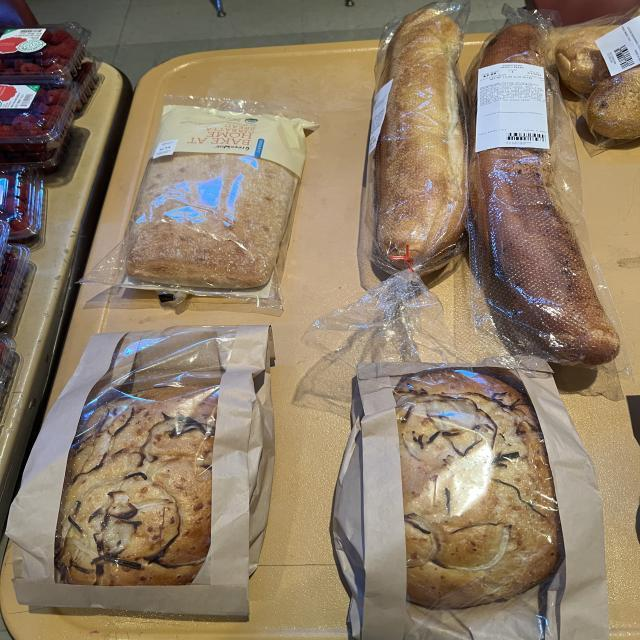Bread: (332, 358, 608, 640), (7, 326, 273, 616), (435, 6, 628, 399), (297, 0, 470, 410), (82, 95, 317, 314), (555, 8, 640, 146)
Raspberries: (0, 80, 77, 151), (0, 22, 90, 80), (0, 108, 73, 172), (0, 165, 43, 242), (0, 244, 30, 328), (0, 332, 20, 420), (73, 55, 102, 114), (0, 220, 10, 261)
